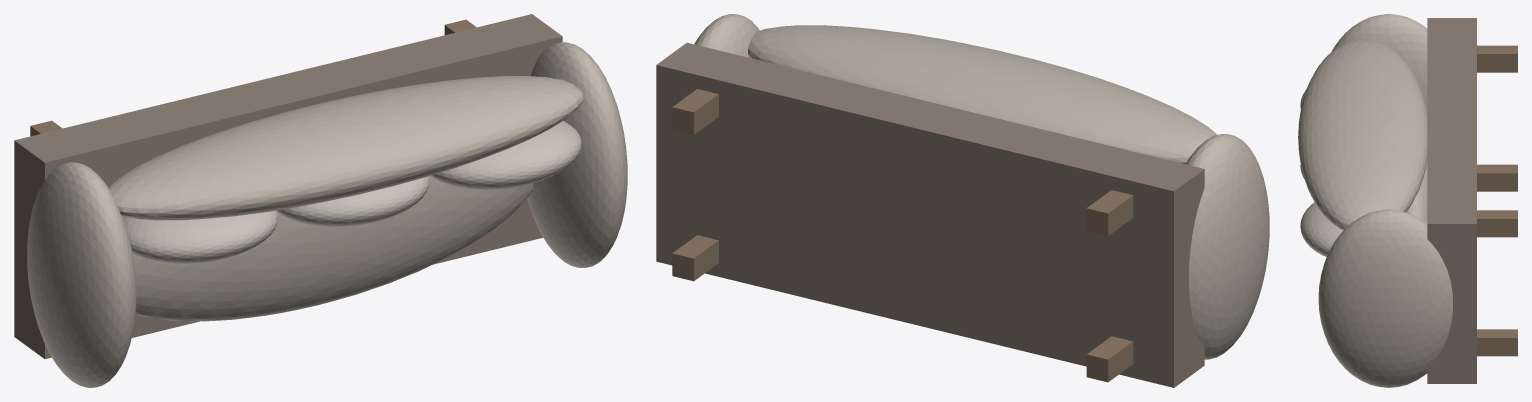
The model's file is sample-sofa.glb.
The picture shows the model from 3 angles, left to right: view 1: azimuth 30°, elevation 25°; view 2: azimuth 150°, elevation 25°; view 3: azimuth 270°, elevation 25°; orthographic projection. The views are drawn at different scales.
Parts seen in each view (by area): view 1: back_cushion, sofa_base, seat_cushion, left_arm, right_arm, back_pillow_1, back_pillow_3, back_pillow_2; view 2: sofa_base, back_cushion, left_arm, right_arm, leg_0_0, leg_0_1, leg_1_0, leg_1_1; view 3: back_cushion, right_arm, sofa_base, left_arm, back_pillow_3, leg_0_0, leg_0_1, leg_1_0, leg_1_1, seat_cushion.
Boxes of the visible parts, x1,y1,x2,y2 form: back_cushion: [108, 76, 583, 220]; sofa_base: [14, 14, 562, 359]; seat_cushion: [133, 176, 533, 321]; left_arm: [27, 162, 136, 387]; right_arm: [527, 42, 627, 267]; back_pillow_1: [123, 210, 278, 263]; back_pillow_3: [430, 121, 581, 189]; back_pillow_2: [277, 176, 429, 226]; sofa_base: [656, 42, 1204, 387]; back_cushion: [748, 25, 1217, 163]; left_arm: [1185, 134, 1269, 359]; right_arm: [694, 14, 759, 57]; leg_0_0: [1086, 336, 1133, 382]; leg_0_1: [1086, 190, 1133, 235]; leg_1_0: [672, 235, 718, 281]; leg_1_1: [672, 89, 718, 134]; back_cushion: [1298, 39, 1427, 230]; right_arm: [1318, 209, 1452, 387]; sofa_base: [1427, 18, 1476, 383]; left_arm: [1331, 14, 1427, 105]; back_pillow_3: [1300, 202, 1343, 256]; leg_0_0: [1477, 164, 1517, 191]; leg_0_1: [1477, 45, 1517, 72]; leg_1_0: [1477, 329, 1517, 356]; leg_1_1: [1477, 210, 1517, 237]; seat_cushion: [1406, 102, 1427, 223].
Size of the model in its own units: 2.32 by 0.865 by 0.97.
